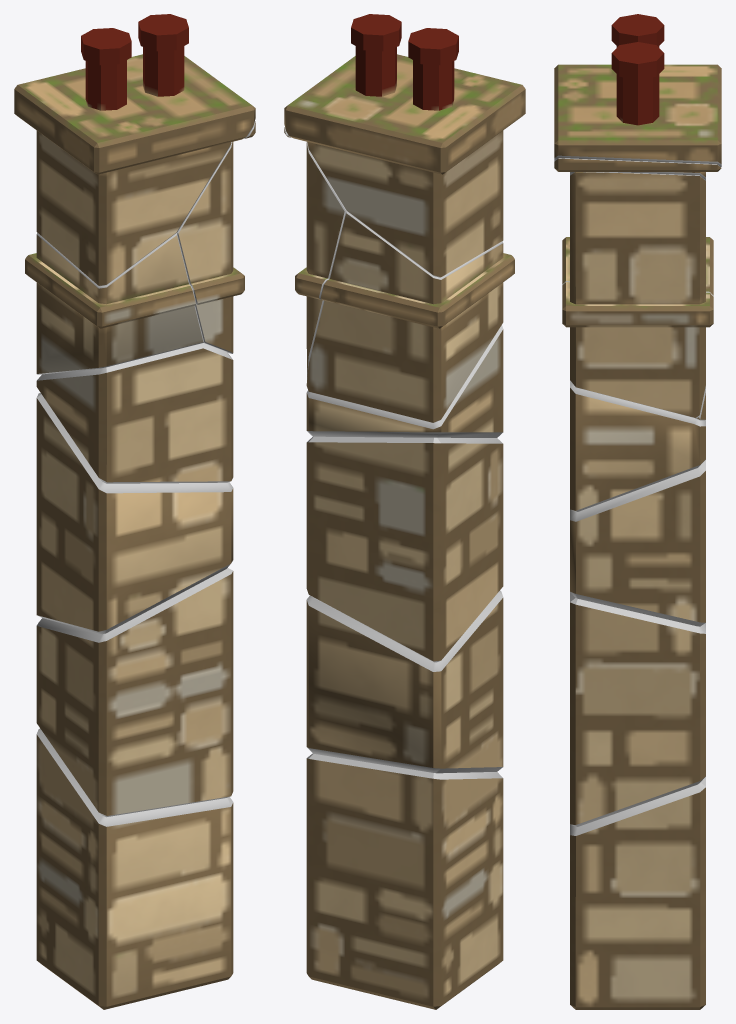
Rendered from Kit_House_Chimney_Fractured.fbx.
The picture shows the model from 3 angles, left to right: view 1: azimuth 30°, elevation 25°; view 2: azimuth 150°, elevation 25°; view 3: azimuth 270°, elevation 25°; orthographic projection.
Visible parts, largest first — view 1: Kit_House_Chimney_frag_05, Kit_House_Chimney_frag_07, Kit_House_Chimney_frag_04, Kit_House_Chimney_frag_02, Kit_House_Chimney_frag_03, Kit_House_Chimney_frag_01, Kit_House_Chimney_frag_06; view 2: Kit_House_Chimney_frag_07, Kit_House_Chimney_frag_05, Kit_House_Chimney_frag_02, Kit_House_Chimney_frag_01, Kit_House_Chimney_frag_04, Kit_House_Chimney_frag_03, Kit_House_Chimney_frag_06; view 3: Kit_House_Chimney_frag_06, Kit_House_Chimney_frag_07, Kit_House_Chimney_frag_04, Kit_House_Chimney_frag_05, Kit_House_Chimney_frag_02, Kit_House_Chimney_frag_03, Kit_House_Chimney_frag_01.
Part boxes in pixels (box(x1,y1,x2,y2)): Kit_House_Chimney_frag_05: box(14, 14, 255, 286); Kit_House_Chimney_frag_07: box(36, 728, 233, 1009); Kit_House_Chimney_frag_04: box(36, 568, 233, 817); Kit_House_Chimney_frag_02: box(36, 393, 233, 634); Kit_House_Chimney_frag_03: box(36, 343, 233, 483); Kit_House_Chimney_frag_01: box(25, 233, 204, 374); Kit_House_Chimney_frag_06: box(177, 121, 255, 353); Kit_House_Chimney_frag_07: box(306, 753, 503, 1009); Kit_House_Chimney_frag_05: box(284, 14, 525, 277); Kit_House_Chimney_frag_02: box(306, 436, 503, 662); Kit_House_Chimney_frag_01: box(306, 211, 514, 422); Kit_House_Chimney_frag_04: box(306, 590, 503, 773); Kit_House_Chimney_frag_03: box(306, 325, 503, 437); Kit_House_Chimney_frag_06: box(284, 127, 346, 379); Kit_House_Chimney_frag_06: box(554, 158, 721, 417); Kit_House_Chimney_frag_07: box(570, 777, 705, 1009); Kit_House_Chimney_frag_04: box(570, 592, 705, 826); Kit_House_Chimney_frag_05: box(554, 14, 721, 180); Kit_House_Chimney_frag_02: box(570, 460, 705, 626); Kit_House_Chimney_frag_03: box(570, 380, 705, 511); Kit_House_Chimney_frag_01: box(562, 237, 713, 420).
Size of what is drawn, in the model's own units: 0.96 by 5.34 by 0.86.
